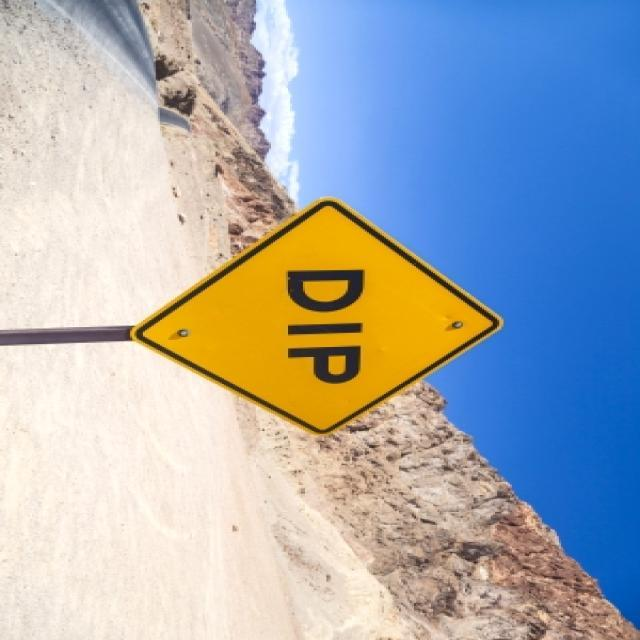Traffic sign: (123, 189, 508, 442)
